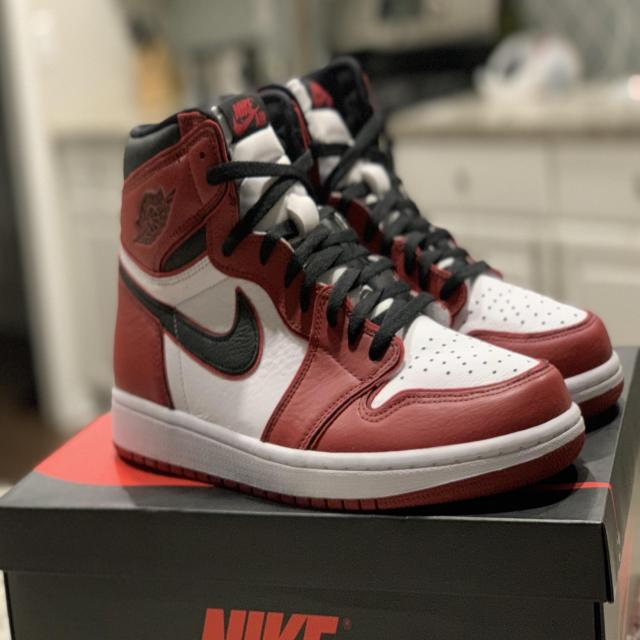shoe: (89, 27, 601, 537)
